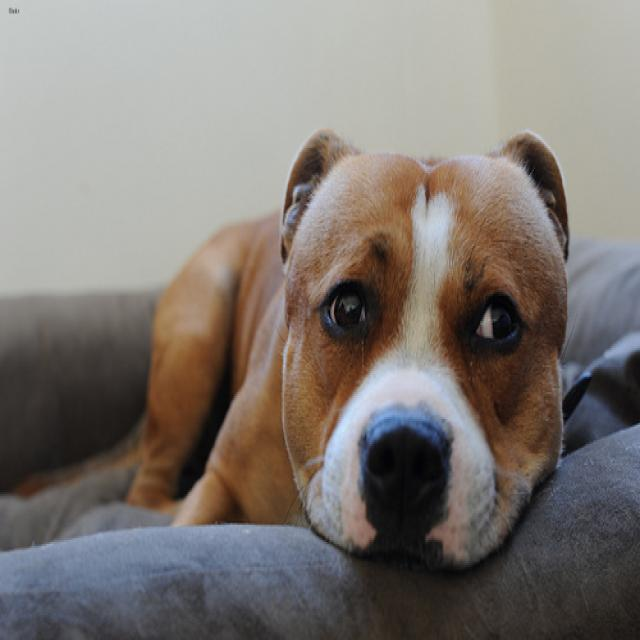dog-staffordshire_bull_terrier: (4, 119, 598, 584)
